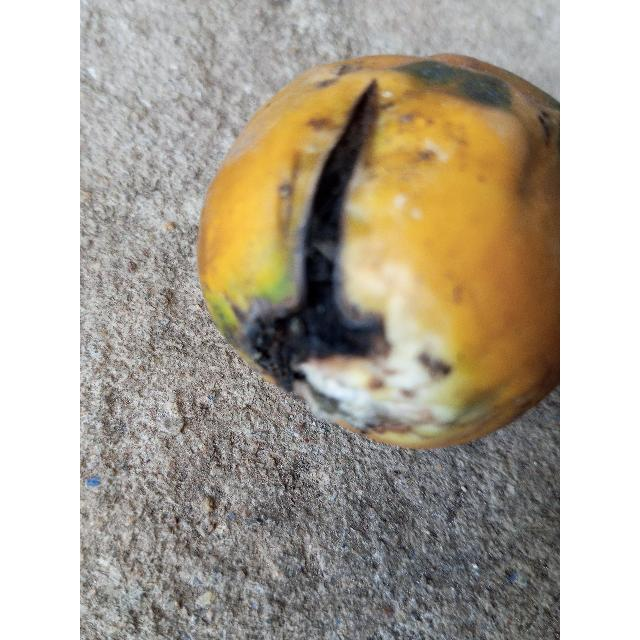damaged: (197, 54, 560, 453)
